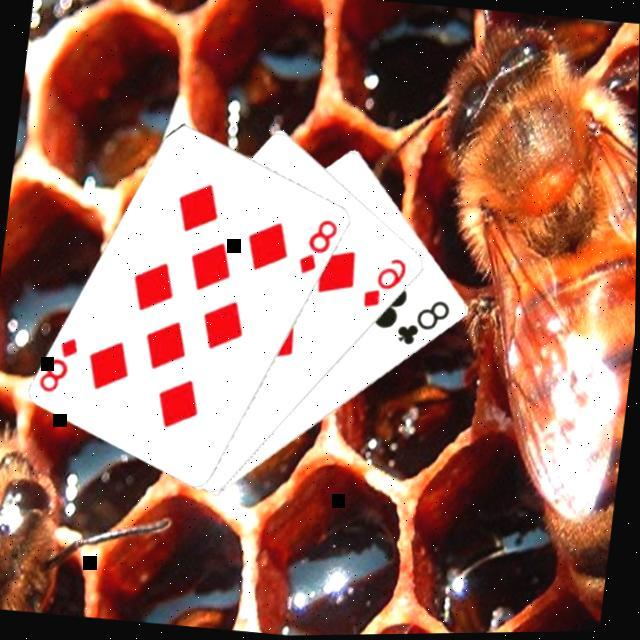6D: (360, 250, 412, 314)
8C: (394, 291, 456, 352)
8D: (37, 328, 85, 396), (296, 212, 343, 278)
